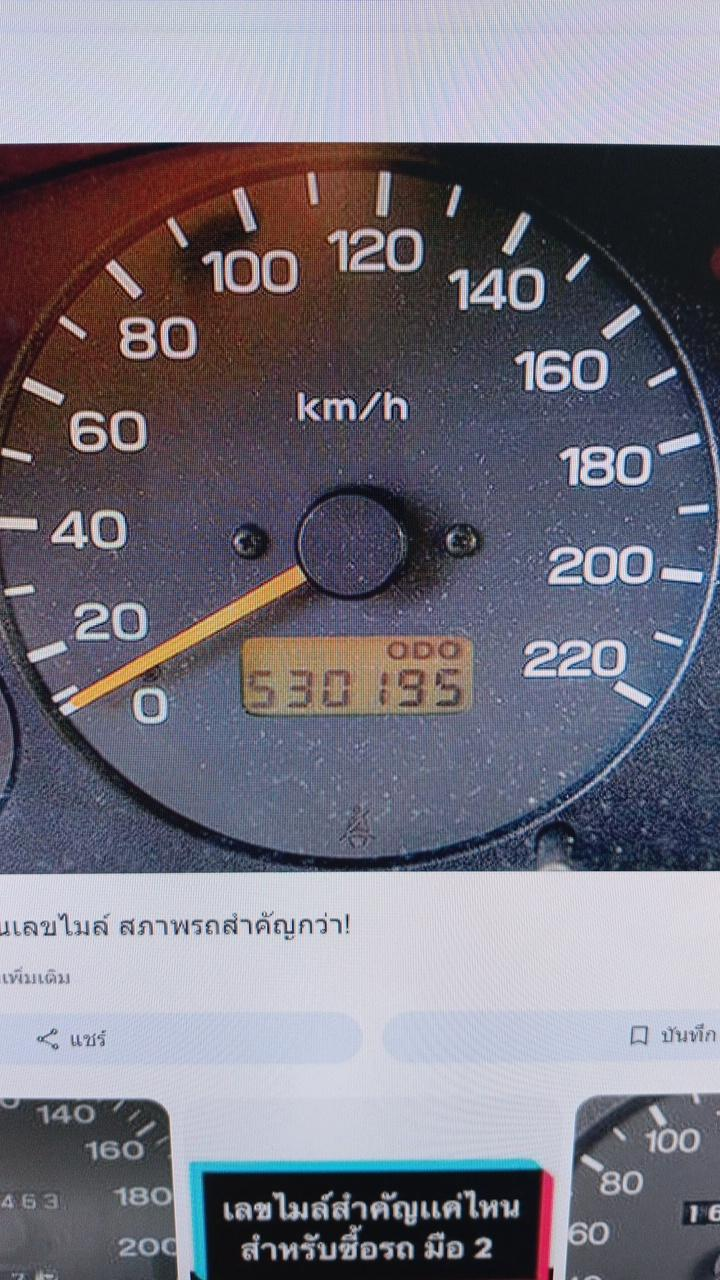0: (321, 668, 351, 710)
1: (376, 670, 391, 707)
3: (285, 669, 314, 710)
5: (434, 667, 463, 708), (247, 669, 275, 709)
9: (397, 666, 427, 709)
odometer: (240, 637, 477, 718)
